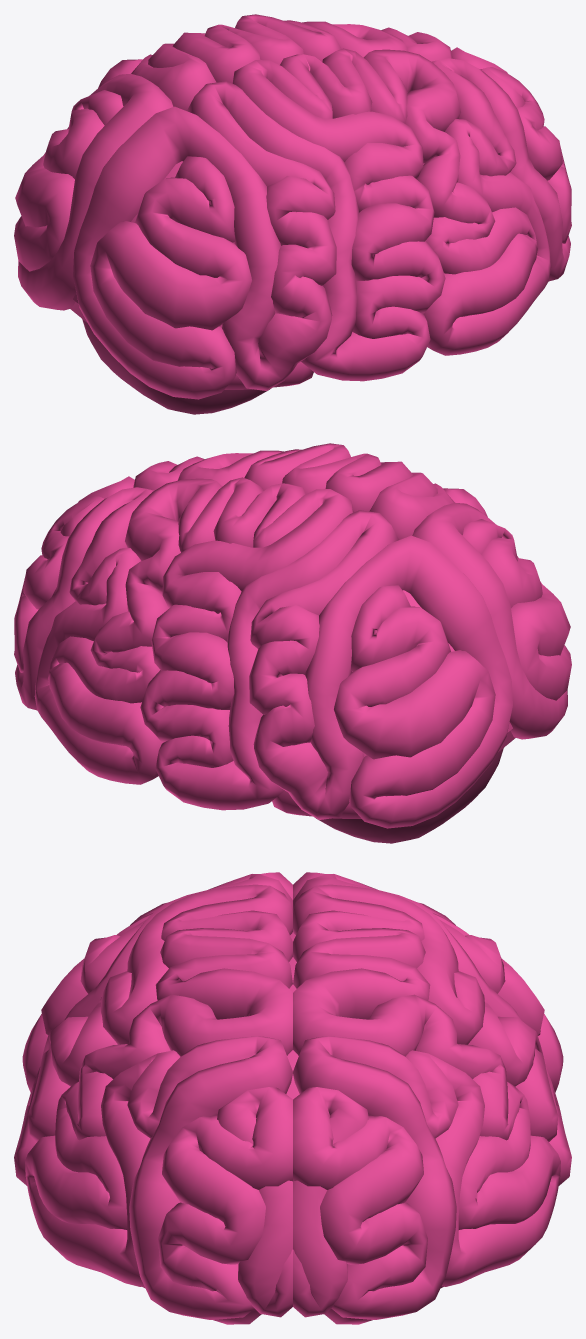
The model's file is brain.gltf.
3 renders of one model, top to bottom at view 1: azimuth 30°, elevation 25°; view 2: azimuth 150°, elevation 25°; view 3: azimuth 270°, elevation 25°, orthographic. The views are drawn at different scales.
Parts seen in each view (by area): view 1: Plane.027, Cylinder.009; view 2: Plane.027, Cylinder.009; view 3: Plane.027.
Boxes of the visible parts, x1,y1,x2,y2 form: Plane.027: [14, 14, 571, 399]; Cylinder.009: [82, 319, 269, 414]; Plane.027: [14, 443, 571, 828]; Cylinder.009: [316, 748, 503, 843]; Plane.027: [14, 872, 571, 1324].
Size of the model in its own units: 2.03 by 1.33 by 1.82.
